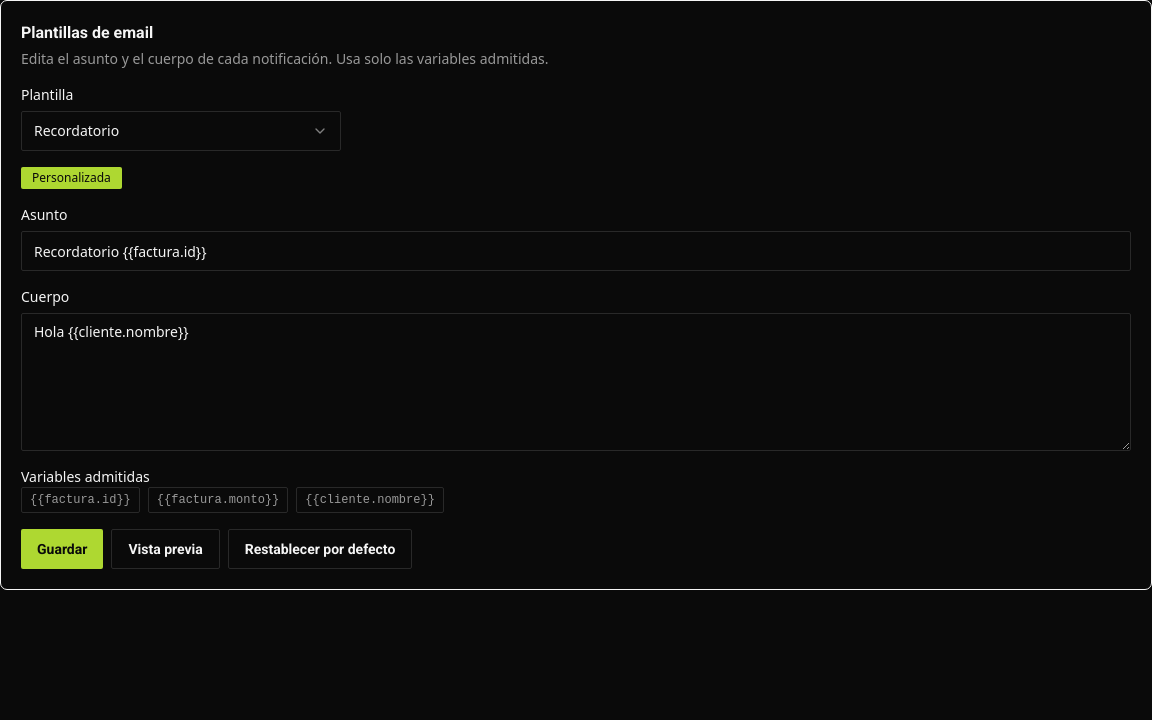
Test: EmailTemplatesSection › guarda una plantilla válida y muestra toast de éxito
This screenshot has width=1152, height=720.
Check: the field labelled "Asunto" is shown, box [21,231,1131,271]
Click the button "Guardar" at (62, 549), box [21,529,103,569]
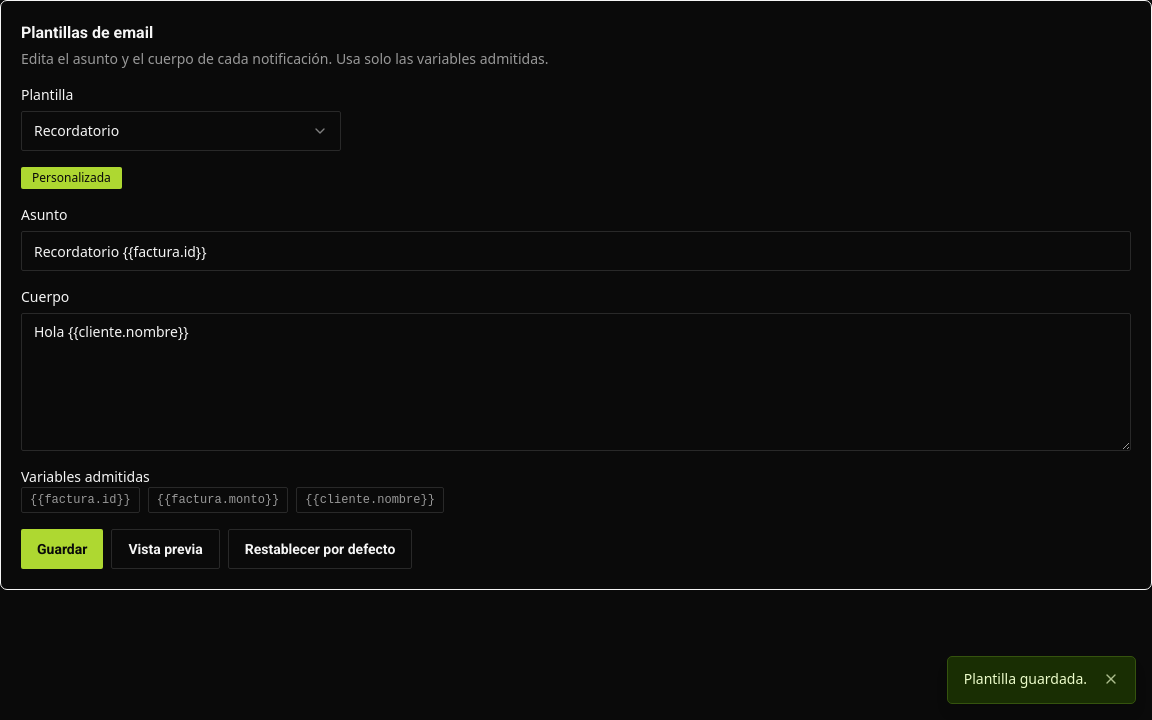
Check: the text "Plantilla guardada." is shown, box [964,669,1087,688]
